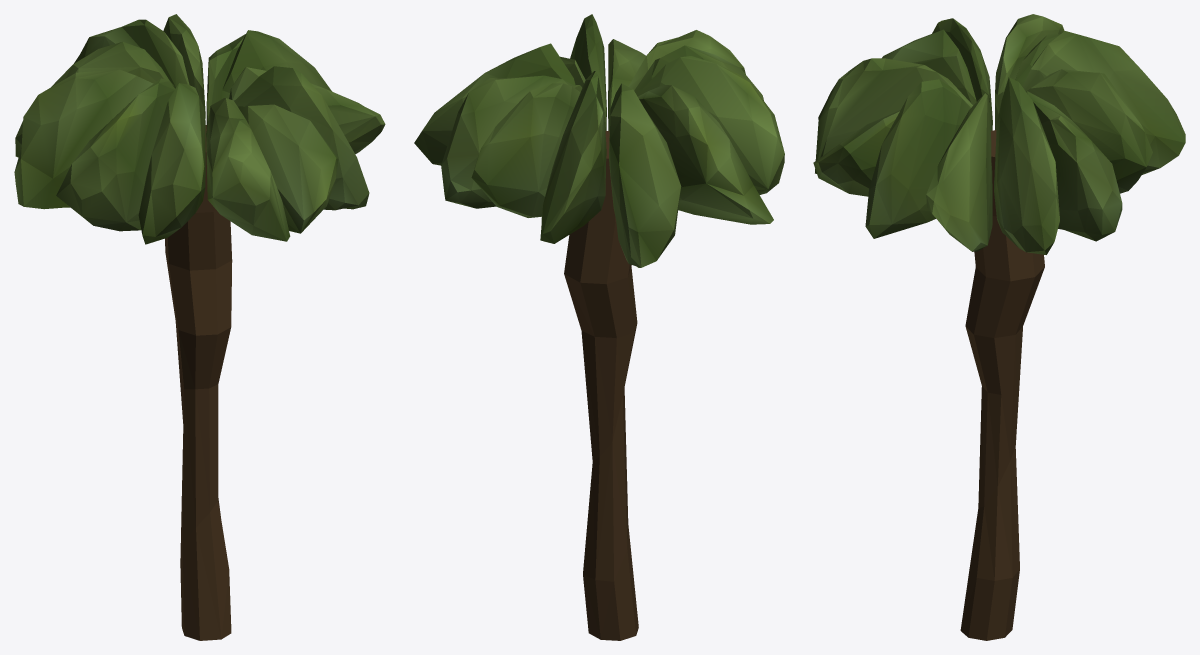
File: palm_high.glb
The picture shows the model from 3 angles, left to right: view 1: azimuth 30°, elevation 25°; view 2: azimuth 150°, elevation 25°; view 3: azimuth 270°, elevation 25°; orthographic projection.
Parts seen in each view (by area): view 1: palm_high; view 2: palm_high; view 3: palm_high.
Part boxes in pixels (<box>): palm_high: <box>14,14,385,640</box>; palm_high: <box>414,14,784,640</box>; palm_high: <box>813,14,1185,640</box>.
Size of the model in its own units: 1.68 by 2.8 by 1.6.
